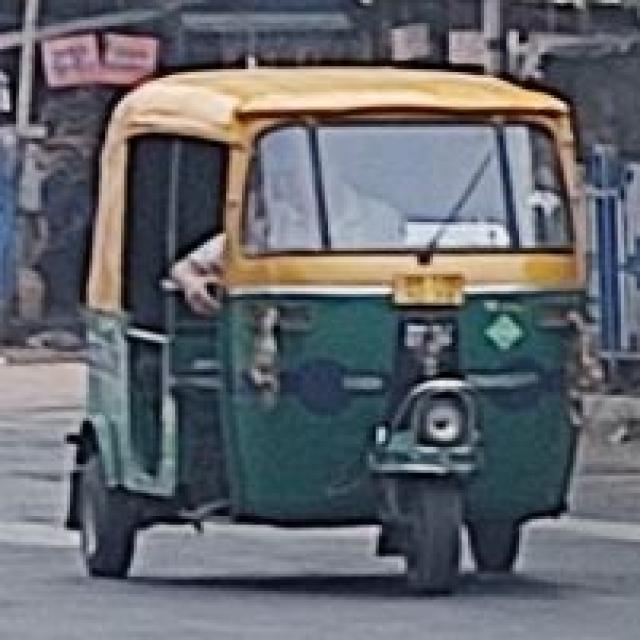autorickshaw: (77, 61, 596, 596)
